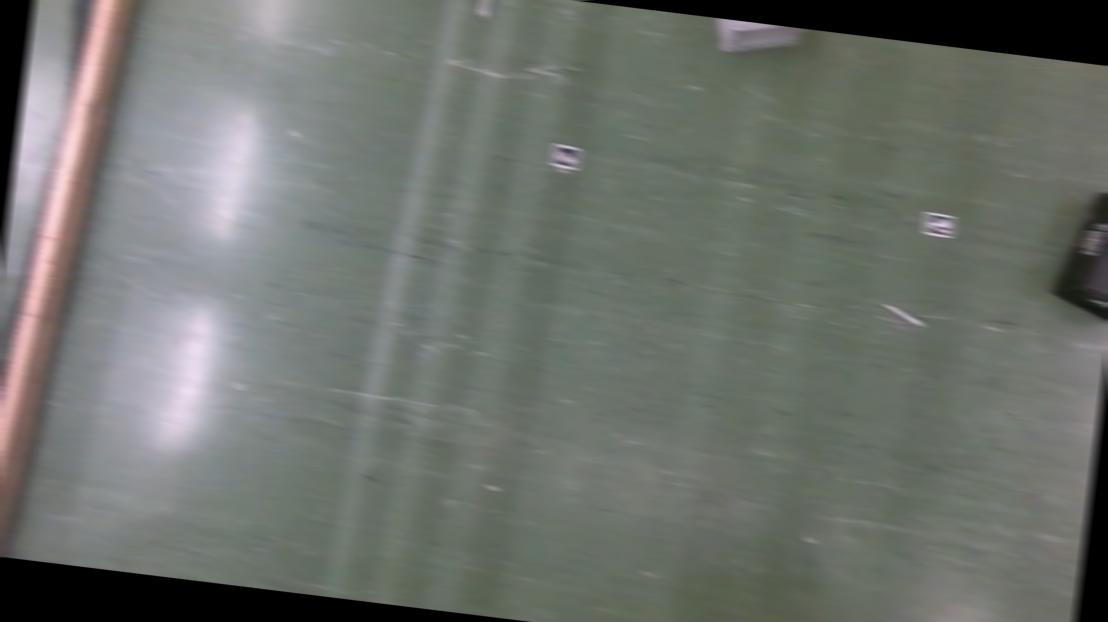probes: (882, 304, 926, 328), (472, 0, 494, 19)
rako: (1047, 178, 1108, 324), (699, 16, 812, 64)
